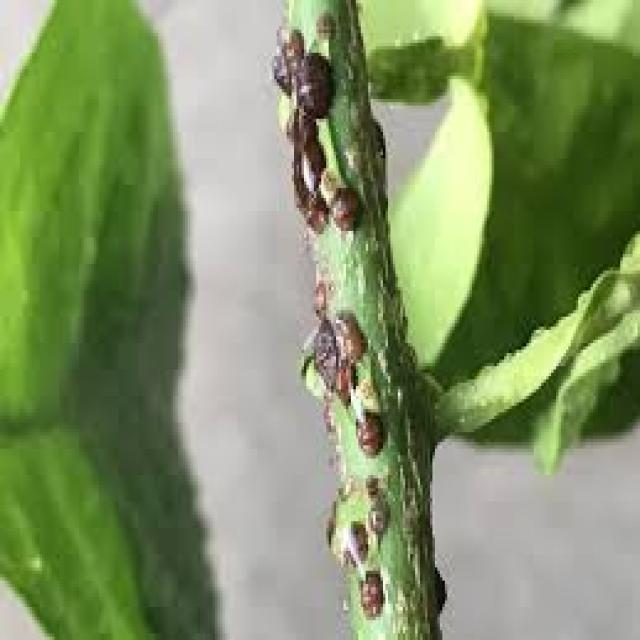scale_insect: (289, 43, 336, 122), (324, 300, 373, 366), (353, 465, 393, 538), (304, 314, 341, 389), (318, 178, 366, 234), (348, 561, 391, 620), (346, 396, 385, 458), (336, 505, 373, 561), (272, 20, 309, 76), (294, 132, 329, 191), (264, 40, 294, 92), (284, 142, 309, 201), (302, 271, 331, 320), (334, 538, 356, 570)
